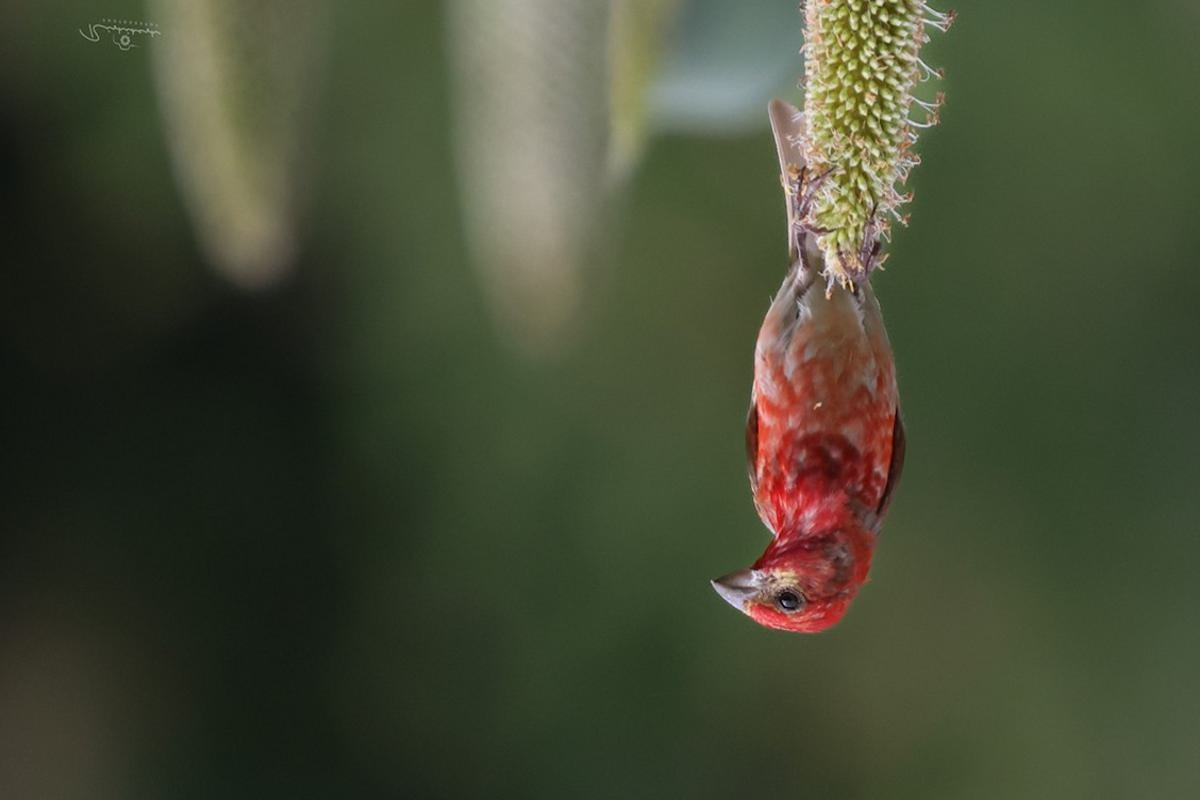rosefinch: (693, 183, 911, 652)
